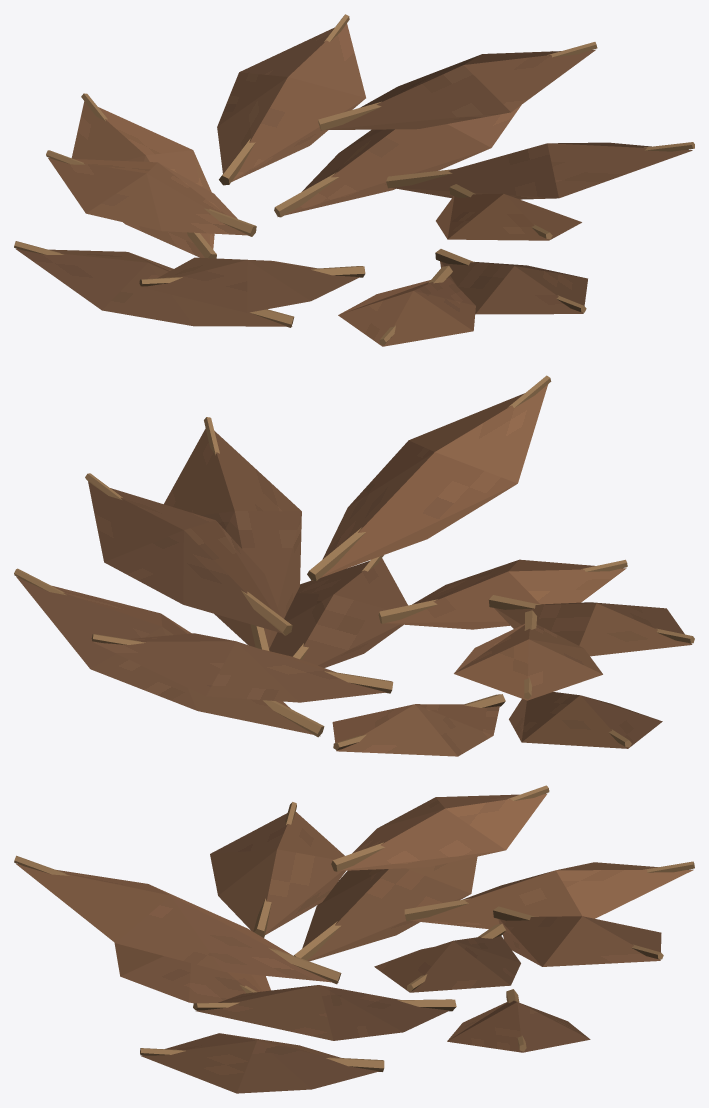
File: tea_raw.glb
3 views of the same model, one above another, from view 1: azimuth 30°, elevation 25°; view 2: azimuth 150°, elevation 25°; view 3: azimuth 270°, elevation 25° (orthographic). The views are drawn at different scales.
Visible parts, largest first — view 1: block_veined leaf blade (×17), block_veined leaf tip (×20), block_veined leaf vein (×9); view 2: block_veined leaf blade (×17), block_veined leaf tip (×22), block_veined leaf vein (×8); view 3: block_veined leaf blade (×16), block_veined leaf tip (×19), block_veined leaf vein (×8).
Part boxes in pixels (box(x1,y1,x2,y2)): block_veined leaf blade (×17): box(86, 54, 558, 330); block_veined leaf tip (×20): box(15, 24, 692, 346); block_veined leaf vein (×9): box(14, 14, 694, 327); block_veined leaf blade (×17): box(91, 440, 602, 756); block_veined leaf tip (×22): box(16, 384, 691, 756); block_veined leaf vein (×8): box(14, 375, 694, 750); block_veined leaf blade (×16): box(116, 797, 581, 1093); block_veined leaf tip (×19): box(16, 793, 693, 1093); block_veined leaf vein (×8): box(14, 785, 694, 1071).
Bounding box in the file's own units: 0.0339 × 0.0102 × 0.0349.
Materials: 2 (2 with a texture image).
